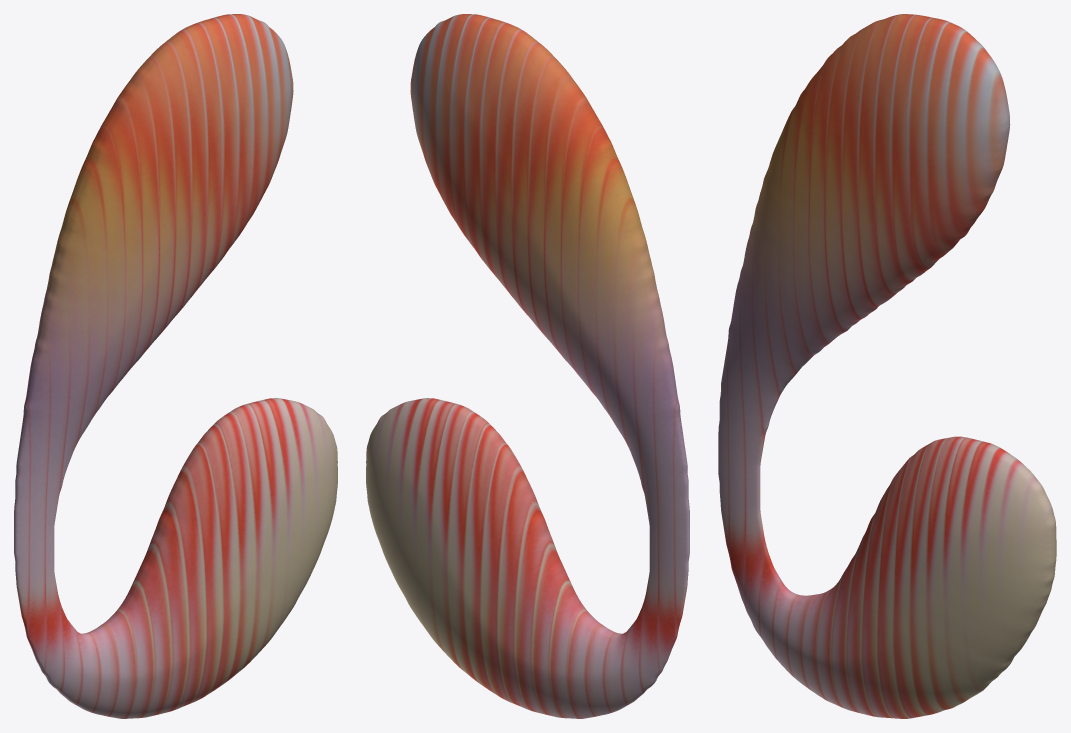
Rendered from letterL.glb.
The picture shows the model from 3 angles, left to right: view 1: azimuth 30°, elevation 25°; view 2: azimuth 150°, elevation 25°; view 3: azimuth 330°, elevation 25°; orthographic projection. The views are drawn at different scales.
Visible parts, largest first — view 1: Geometry; view 2: Geometry; view 3: Geometry.
Boxes of the visible parts, bbox=[...] form: Geometry: bbox=[14, 14, 337, 718]; Geometry: bbox=[366, 14, 689, 718]; Geometry: bbox=[718, 14, 1056, 718].
Size of the model in its own units: 0.4943 by 1 by 0.117.
Materials: 1 (1 with a texture image).
